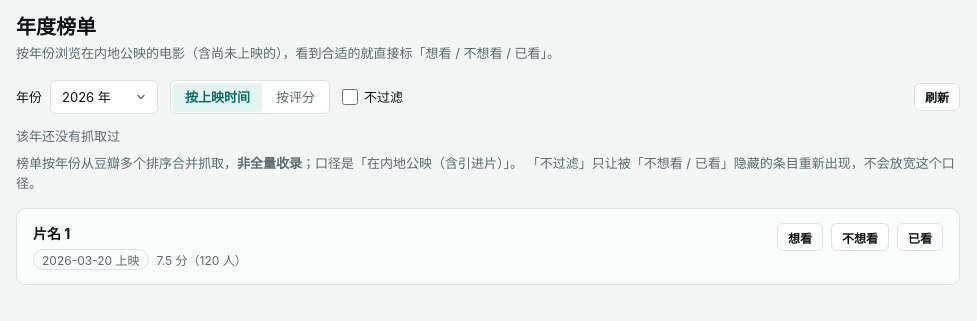
Scenario: 三种标记 › 撞名不是失败：出「该片名已在想看片单中」，且不走报错通道
This screenshot has width=977, height=321.
Click the button "想看" at (800, 237), box [777,223,823,251]
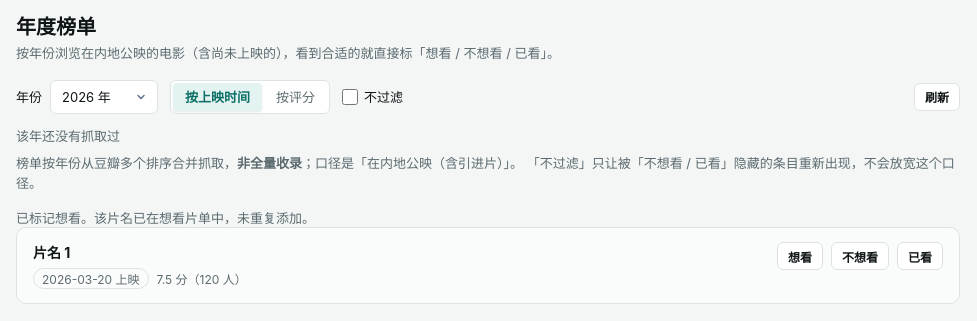
Expected: the message with test id "movie-chart-notice" shows "该片名已在想看片单中", [16,210,315,226]
Expected: the message with test id "movie-chart-notice" shows "已标记想看", [16,210,315,226]
